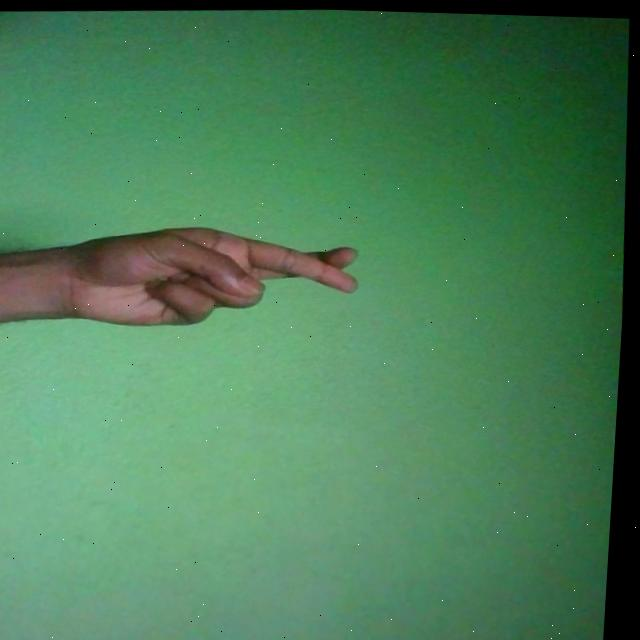Good Luck: (62, 217, 364, 334)
